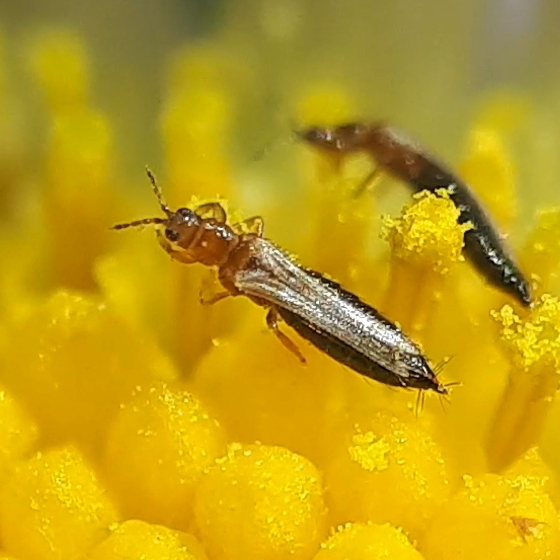Thripidae: (107, 165, 464, 416), (294, 117, 536, 309)
